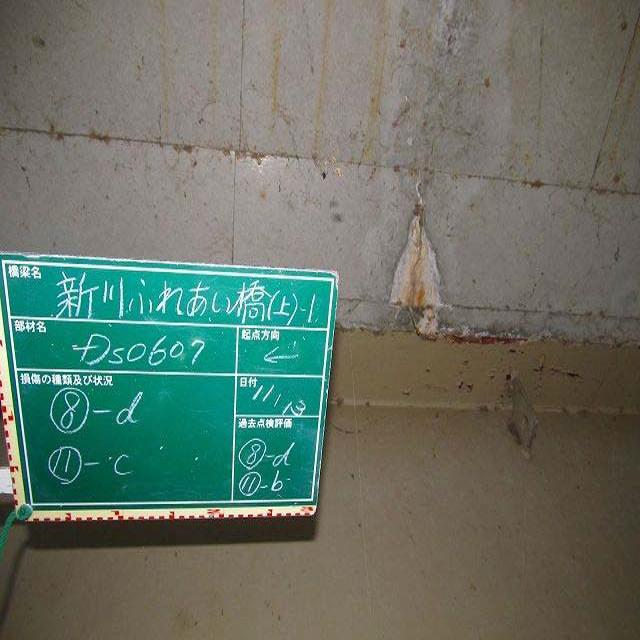freelime: (377, 207, 473, 336)
